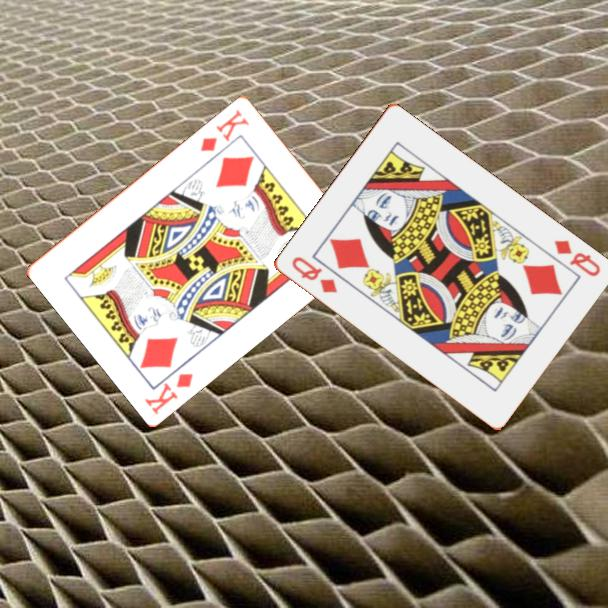d12: (550, 236, 603, 280), (288, 253, 340, 296)
d13: (197, 105, 252, 154), (141, 369, 196, 417)
